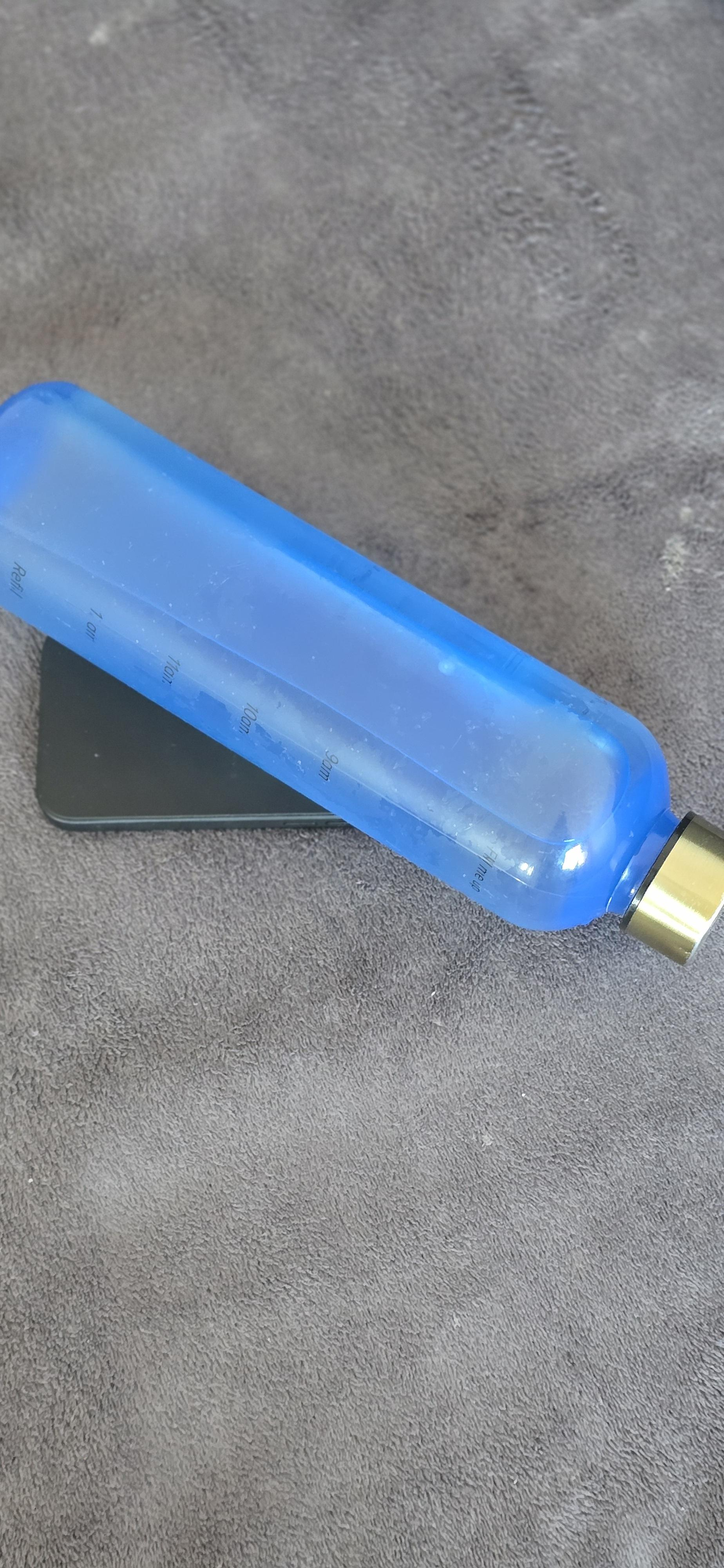bottle: (0, 385, 724, 962), (35, 644, 320, 821)
